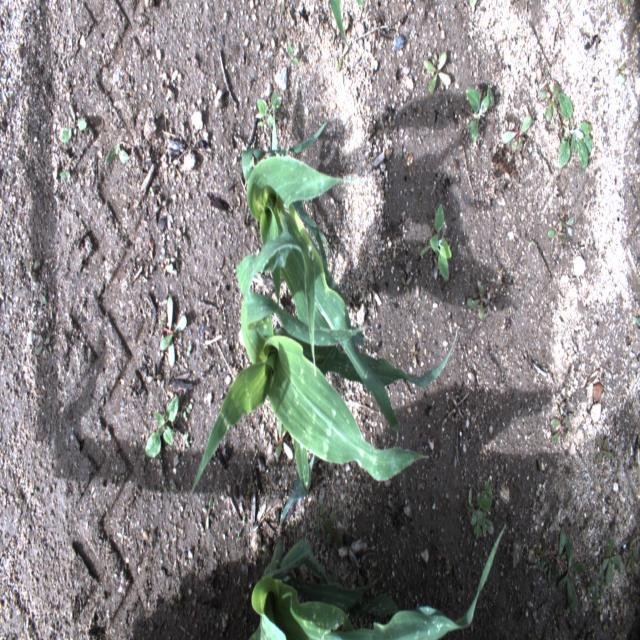crop: (190, 235, 458, 530), (240, 117, 399, 428), (246, 530, 504, 640), (328, 0, 350, 43)
weed: (535, 529, 587, 616), (419, 202, 453, 283), (144, 396, 180, 459), (557, 119, 595, 172), (464, 478, 494, 543), (464, 85, 495, 145), (159, 302, 187, 366), (541, 81, 574, 124), (501, 113, 533, 154), (424, 50, 452, 93), (60, 104, 87, 143), (257, 91, 283, 129), (324, 508, 346, 550), (271, 414, 289, 464), (604, 536, 622, 586), (466, 282, 488, 322), (586, 566, 606, 607), (549, 217, 576, 241), (594, 433, 614, 463), (104, 145, 130, 167), (550, 415, 568, 444), (626, 542, 640, 577), (22, 255, 40, 282), (313, 501, 326, 537), (169, 593, 185, 614), (203, 494, 212, 529), (287, 42, 299, 68), (146, 366, 164, 382), (36, 335, 50, 355), (615, 62, 626, 86), (184, 428, 194, 451), (401, 276, 411, 296), (621, 0, 635, 12), (59, 168, 71, 181), (182, 404, 191, 421), (336, 56, 346, 71), (38, 294, 46, 307), (353, 0, 367, 7), (444, 431, 451, 441), (468, 0, 478, 7), (279, 3, 285, 14), (172, 479, 177, 492), (636, 314, 640, 330), (229, 611, 234, 621), (31, 487, 38, 494), (527, 240, 533, 246)
